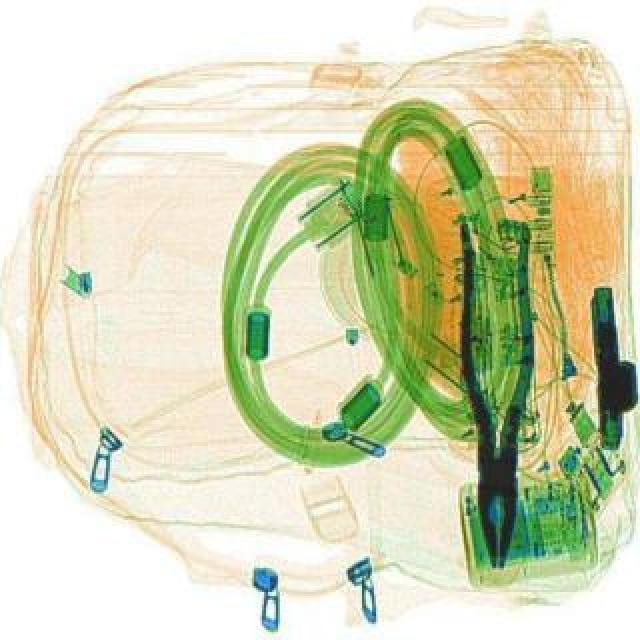gun: (596, 286, 640, 456)
wrench: (464, 222, 538, 572)
